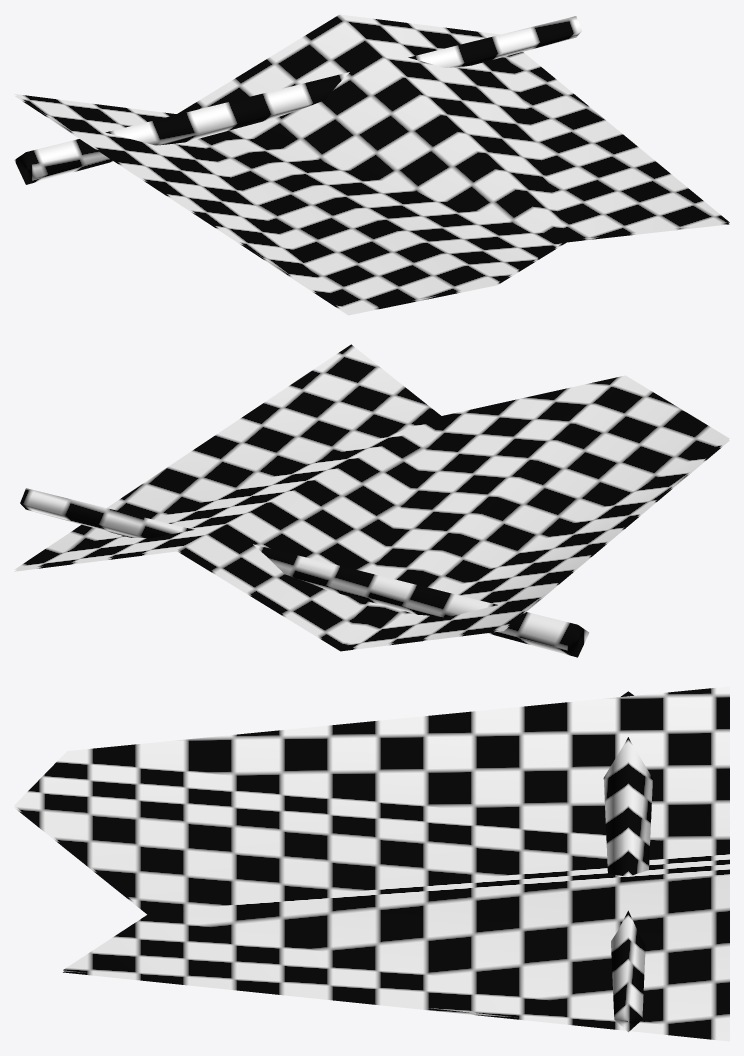
The model's file is stst86.dae.
3 renders of one model, top to bottom at view 1: azimuth 30°, elevation 25°; view 2: azimuth 150°, elevation 25°; view 3: azimuth 270°, elevation 25°, orthographic. The views are drawn at different scales.
Parts seen in each view (by area): view 1: license; view 2: license; view 3: license.
Part boxes in pixels (x1,y1,x2,y2): license: (14,14,729,315); license: (14,344,729,657); license: (14,686,729,1041).
Bounding box in the file's own units: 0.5634 × 0.5364 × 0.0604.
Materials: 1 (1 with a texture image).
